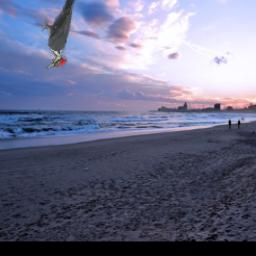Woodpecker: (43, 0, 78, 71)
